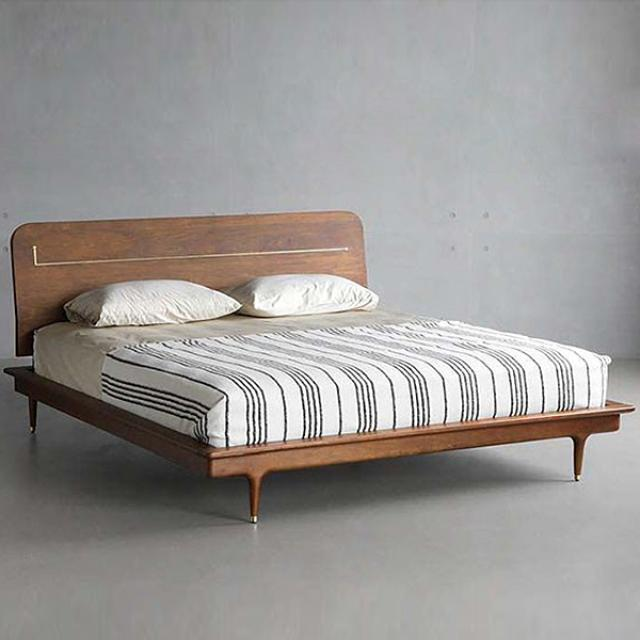bed vintage: (1, 214, 640, 520)
